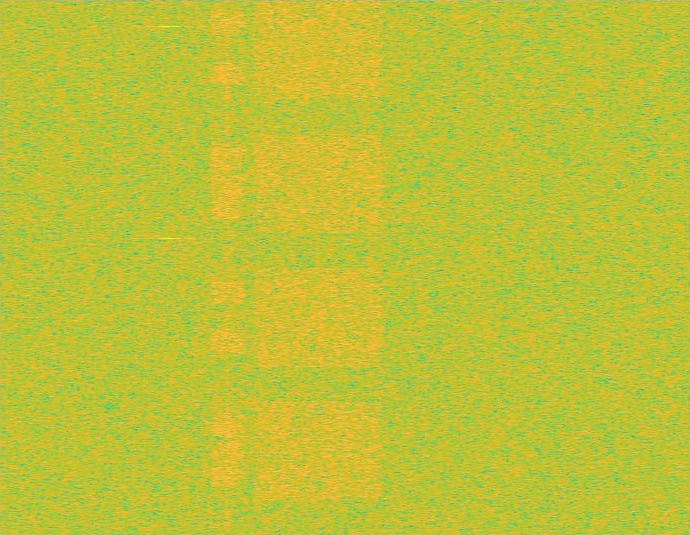5G: (249, 0, 387, 534)
DSSS: (225, 0, 230, 534)
LTE: (211, 0, 245, 534)
Radar: (163, 0, 176, 534)
